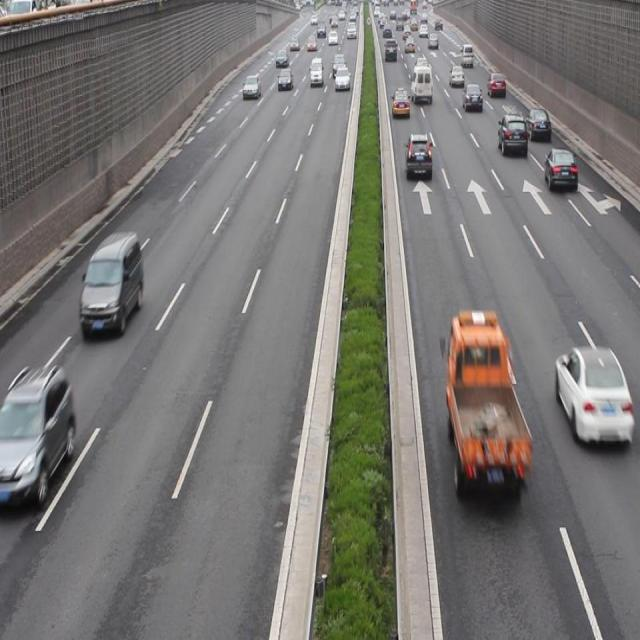bus: (443, 313, 530, 504)
car: (1, 367, 74, 508), (556, 346, 627, 453), (544, 148, 575, 192), (404, 132, 430, 182), (498, 113, 525, 158), (524, 108, 550, 142)
truck: (83, 232, 142, 337)
